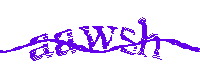a: (30, 33, 52, 61), (54, 29, 76, 57)
h: (138, 17, 163, 60)
s: (120, 25, 137, 56)
w: (80, 24, 118, 54)
